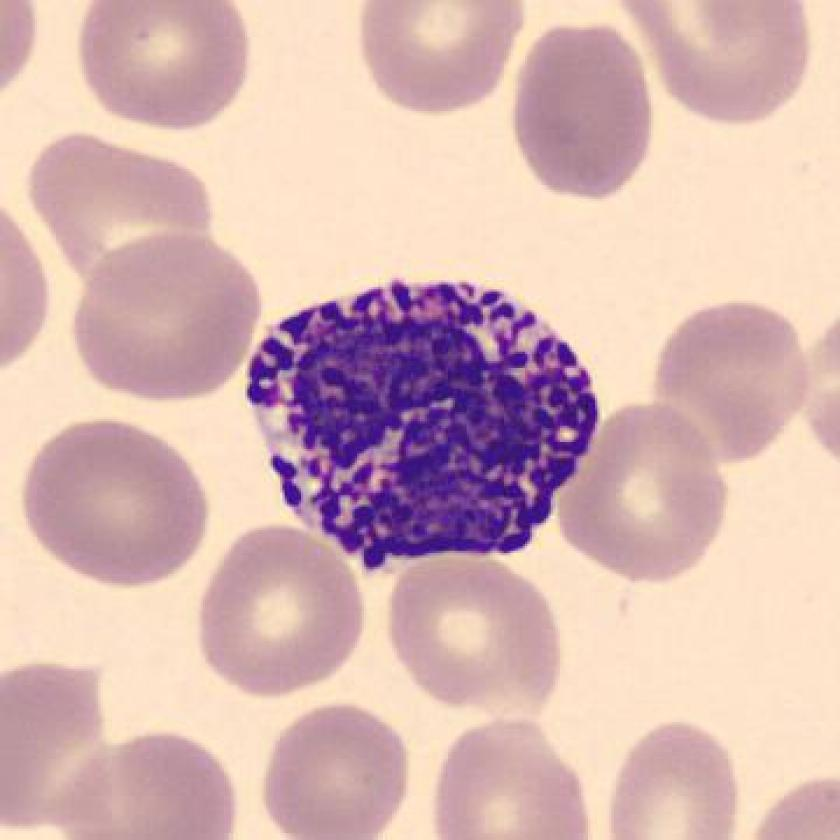basophil: (237, 267, 615, 566)
